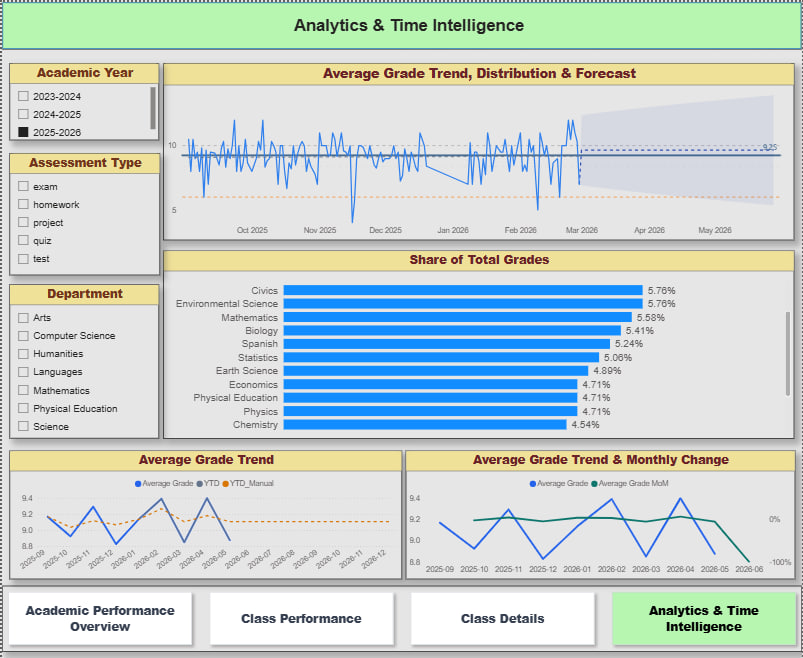

What the dashboard file says about the page in this screenshot:
{"tool":"powerbi","page":{"name":"Analytics & Time Intelligence","canvas":[1280,1050],"ordinal":4},"visuals":[{"type":"shape","title":"Analytics & Time Intelligence","box":[0,0,1280,76],"z":0},{"type":"lineChart","title":"Average Grade Trend, Distribution & Forecast","fields":{"Y":["_Measures.Average Grade"],"Category":["Calendar.Date"]},"box":[258.6,98.5,1009.9,283.3],"z":1000},{"type":"clusteredBarChart","title":"Share of Total Grades","fields":{"Category":["subjects.subject_name"],"Y":["Divide(_Measures.Total Grades, ScopedEval(_Measures.Total Grades, []))"]},"box":[258.6,397.6,1009.9,300.9],"z":2000},{"type":"lineChart","title":"Average Grade Trend","fields":{"Category":["Calendar.Year-Month"],"Y":["_Measures.Average Grade","Calendar.YTD","_Measures.YTD_Manual"]},"box":[12.3,717.8,628.1,205.8],"z":3000},{"type":"lineChart","title":"Average Grade Trend & Monthly Change","fields":{"Category":["Calendar.Year-Month"],"Y":["_Measures.Average Grade"],"Y2":["_Measures.Average Grade MoM"]},"box":[645.7,717.8,622.8,205.8],"z":4000},{"type":"pageNavigator","box":[0,934.3,1280,105.7],"z":5000},{"type":"slicer","title":"Assessment Type","fields":{"Values":["grades.grade_type"]},"box":[12.3,241,241,195.3],"z":6000},{"type":"slicer","title":"Academic Year","fields":{"Values":["periods.academic_year"]},"box":[12.3,98.5,239.3,123.2],"z":7000},{"type":"slicer","title":"Department ","fields":{"Values":["subjects.department_hint"]},"box":[12.3,452.2,239.3,246.3],"z":8000},{"type":"textbox","box":[422.9,0,421.4,75.7],"z":10002}]}

Visuals, with their boxes in screenshot pixels (x1, y1, x2, y2), scaled from the page's 1280x1050 canvas onto the 803x658 screenshot:
"Analytics & Time Intelligence" shape: 0:0:802:48
"Average Grade Trend, Distribution & Forecast" lineChart: 162:62:796:239
"Share of Total Grades" clusteredBarChart: 162:249:796:438
"Average Grade Trend" lineChart: 8:450:402:579
"Average Grade Trend & Monthly Change" lineChart: 405:450:796:579
pageNavigator: 0:585:802:652
"Assessment Type" slicer: 8:151:159:273
"Academic Year" slicer: 8:62:158:139
"Department " slicer: 8:283:158:438
textbox: 265:0:530:47
